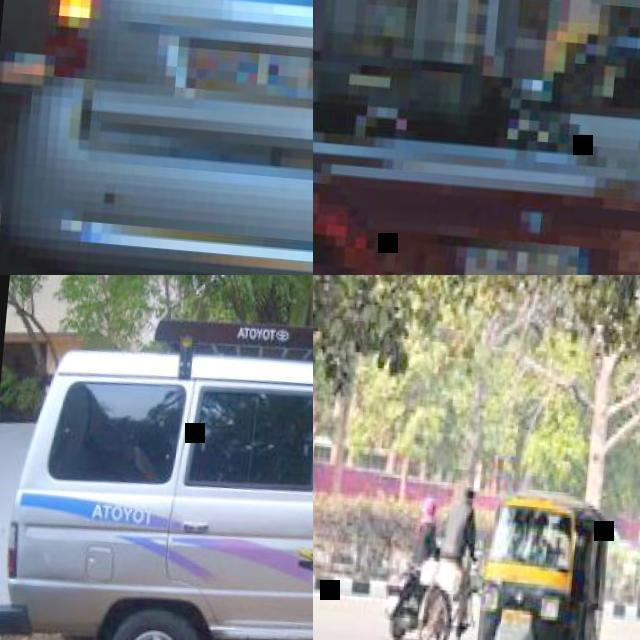car: (4, 336, 314, 639)
